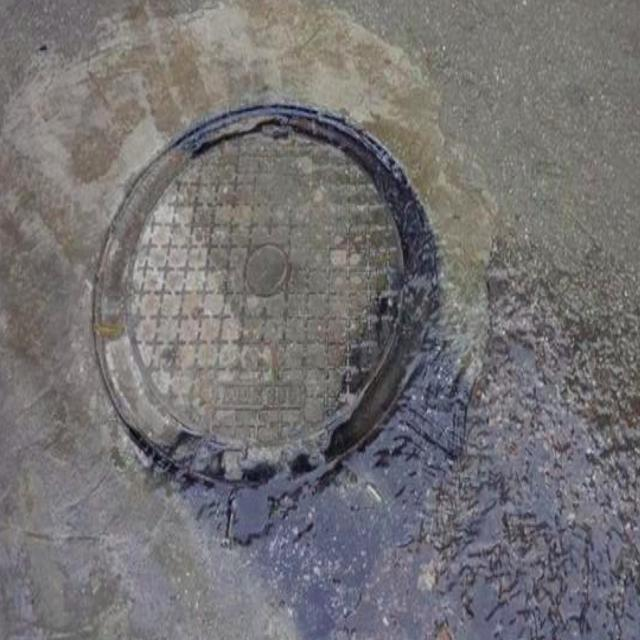circle: (65, 40, 490, 584)
